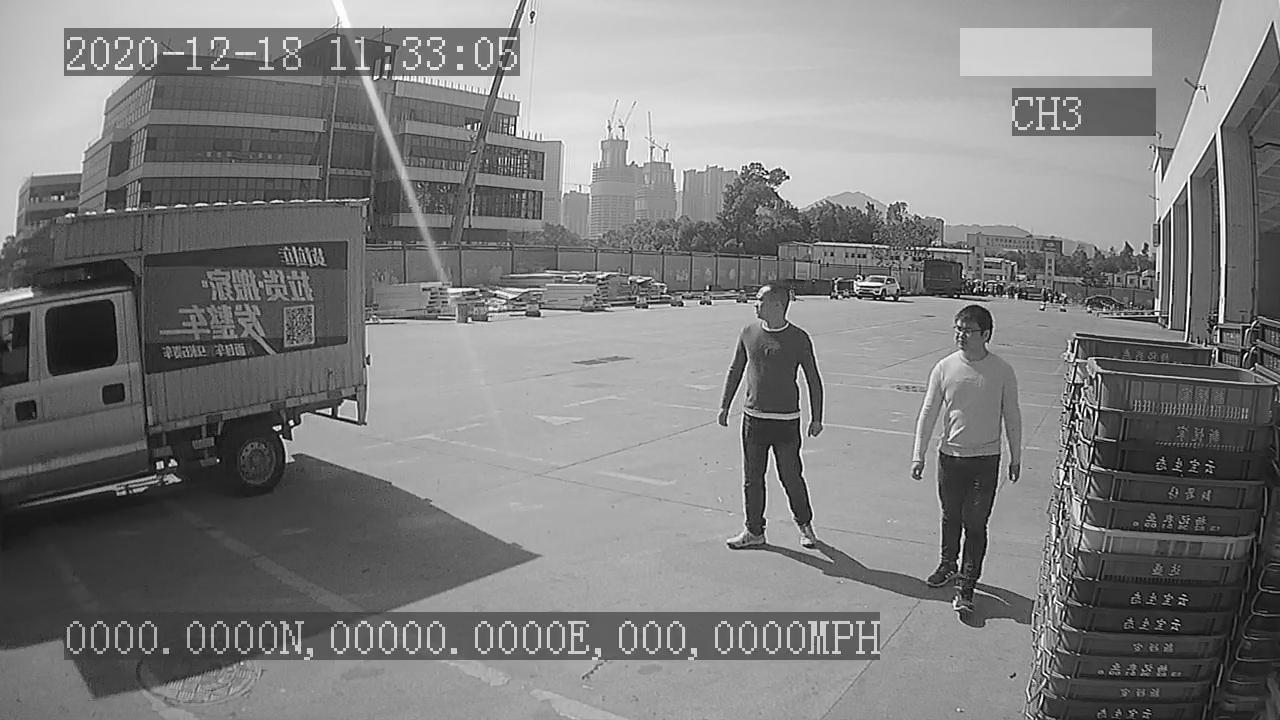person: (907, 297, 1023, 616), (718, 274, 830, 557)
